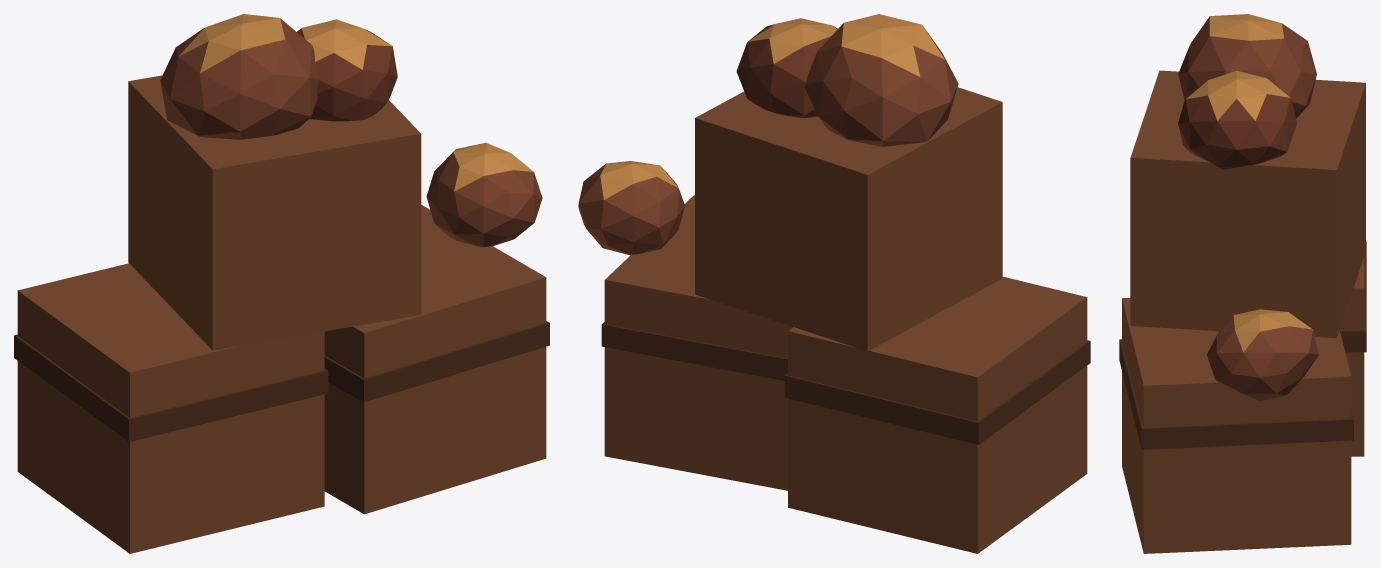
Rendered from ore_crates.gltf.
3 views of the same model, side by side, from view 1: azimuth 30°, elevation 25°; view 2: azimuth 150°, elevation 25°; view 3: azimuth 270°, elevation 25° (orthographic). The views are drawn at different scales.
Visible parts, largest first — view 1: crate.3, crate, crate.2, ore, ore.3, bands, ore.2, bands.2; view 2: crate.3, crate, crate.2, ore, ore.3, bands, ore.2, bands.2; view 3: crate.3, crate.2, ore.2, ore, ore.3, bands.2, crate, bands.
Part boxes in pixels (bbox=[...]): crate.3: bbox=[128, 75, 421, 350]; crate: bbox=[17, 263, 324, 553]; crate.2: bbox=[324, 205, 546, 514]; ore: bbox=[160, 14, 317, 139]; ore.3: bbox=[426, 142, 542, 246]; bands: bbox=[14, 334, 328, 441]; ore.2: bbox=[297, 19, 397, 121]; bands.2: bbox=[324, 321, 549, 402]; crate.3: bbox=[695, 87, 1002, 351]; crate: bbox=[788, 276, 1087, 553]; crate.2: bbox=[604, 195, 792, 490]; ore: bbox=[804, 14, 958, 146]; ore.3: bbox=[578, 161, 684, 255]; bands: bbox=[784, 340, 1090, 444]; ore.2: bbox=[736, 18, 837, 118]; bands.2: bbox=[601, 322, 787, 380]; crate.3: bbox=[1130, 70, 1365, 338]; crate.2: bbox=[1122, 297, 1351, 553]; ore.2: bbox=[1178, 70, 1296, 169]; ore: bbox=[1178, 14, 1316, 118]; ore.3: bbox=[1207, 309, 1318, 401]; bands.2: bbox=[1119, 339, 1353, 449]; crate: bbox=[1340, 257, 1364, 456]; bands: bbox=[1340, 241, 1366, 352].
Bounding box in the file's own units: 2.14 × 2 × 1.07.
